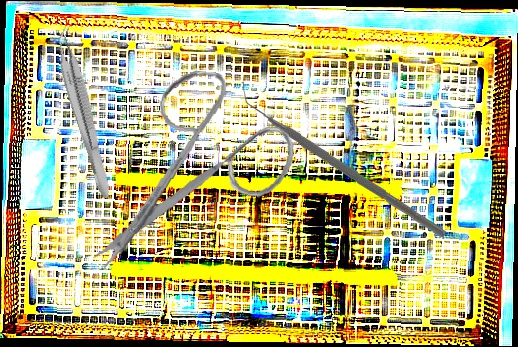Chopper: (235, 79, 452, 239)
Iris Scissors: (89, 61, 303, 289)
Tissue Forceps: (48, 24, 122, 201)
